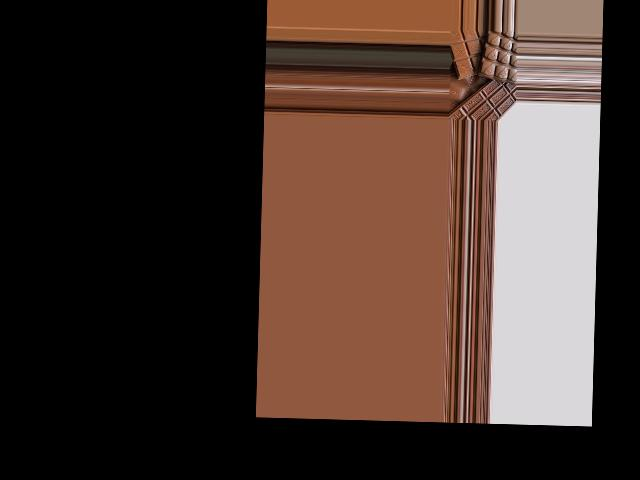chocolate: (453, 29, 493, 79)
